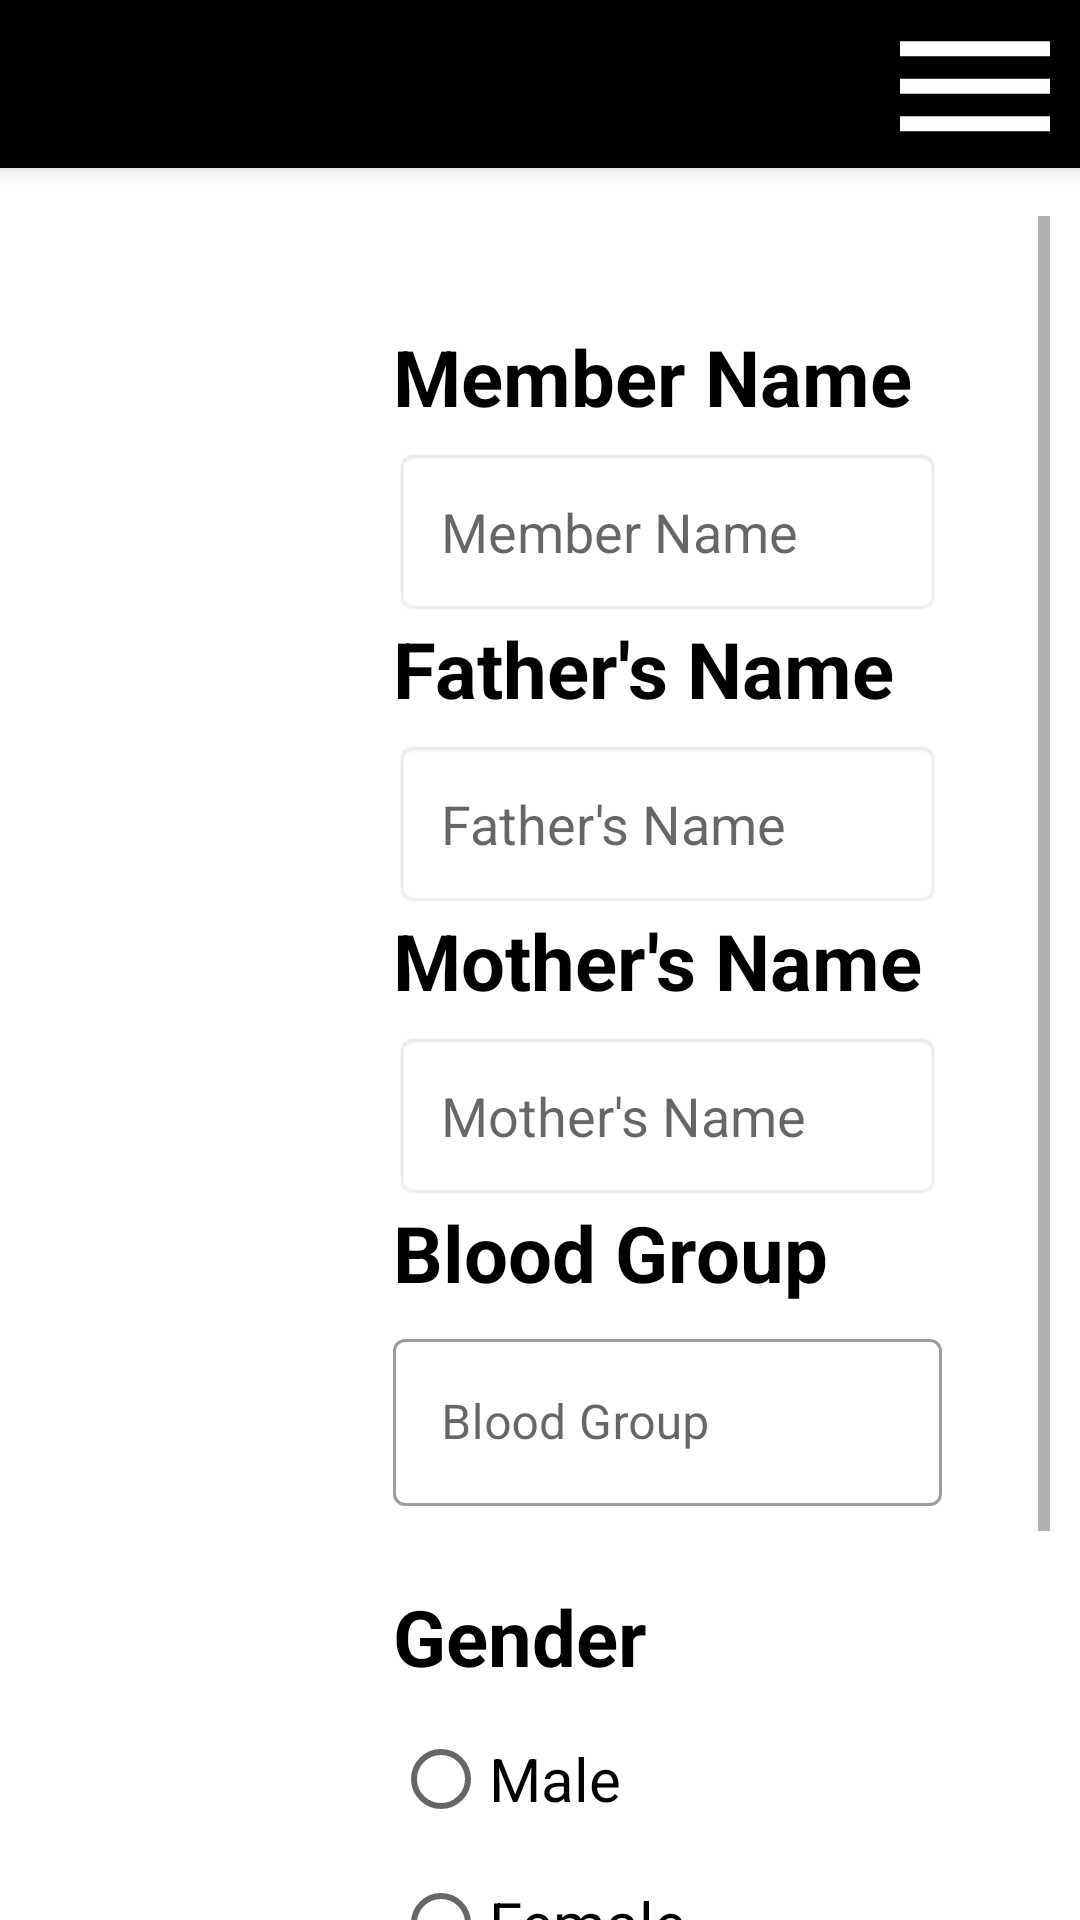

Locate icon controls on the screen. Image size 1080*1920, boxes as [x1, y1, x2, y2].
dehaze: [900, 41, 1050, 132]
